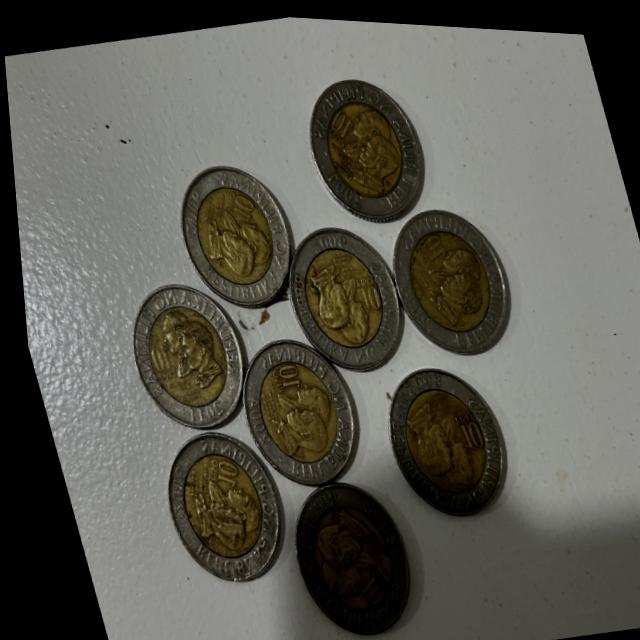10_Old_Front: (211, 178, 256, 228), (314, 100, 360, 148), (193, 451, 237, 498), (344, 266, 383, 317), (345, 562, 385, 611), (444, 406, 482, 452), (260, 356, 302, 395), (405, 226, 445, 266), (141, 339, 175, 385)
